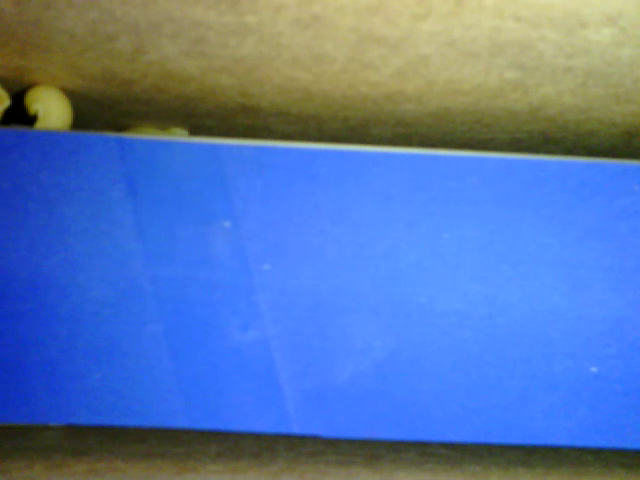shell: (24, 85, 75, 129)
